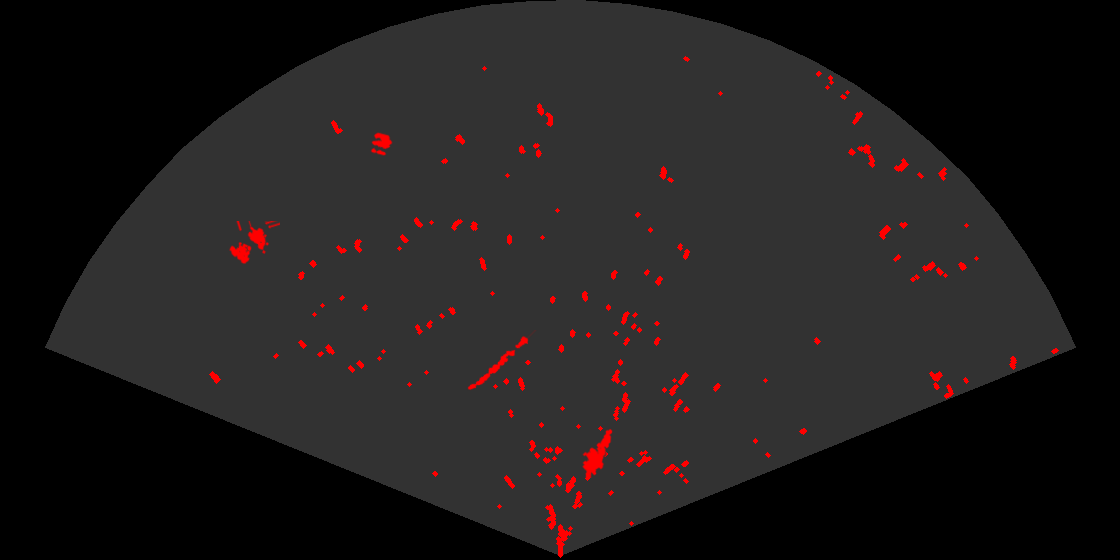ball: (369, 131, 394, 157)
cage: (228, 221, 280, 266)
chain: (466, 330, 538, 392)
frogman: (581, 427, 614, 478)
